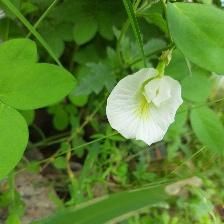shankupushpam: (102, 61, 194, 152)
